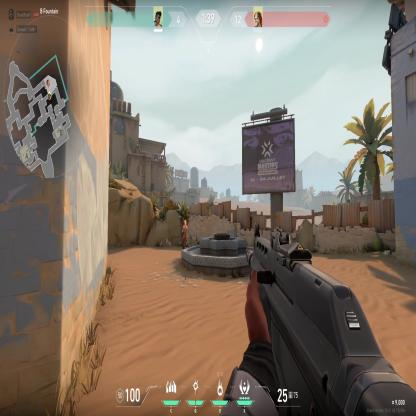enemy: (180, 218, 190, 249)
